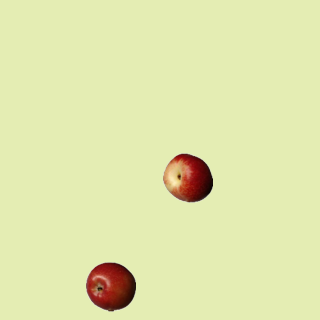Apple Braeburn: (85, 261, 135, 311)
Nectarine: (162, 152, 212, 202)
